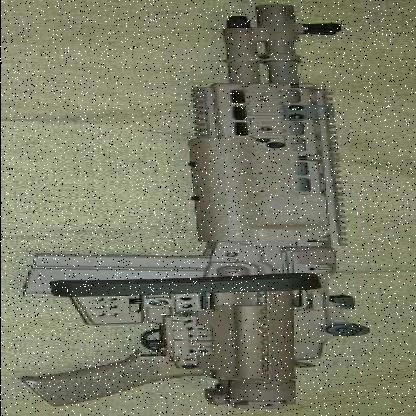rifle: (2, 3, 389, 416)
